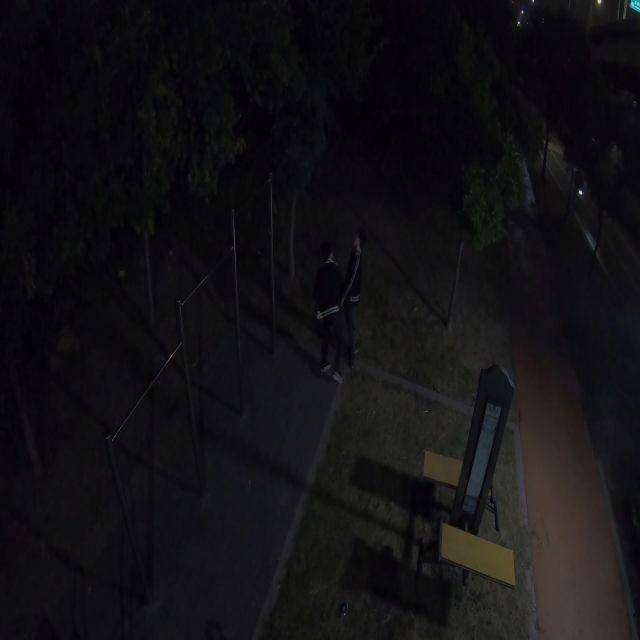fight: (308, 230, 364, 382)
